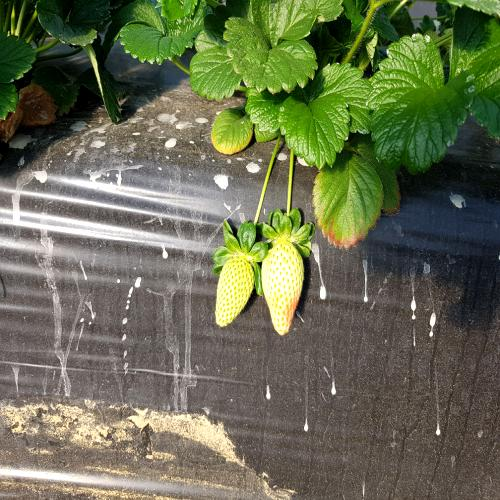partially-ripe: (256, 240, 310, 344)
